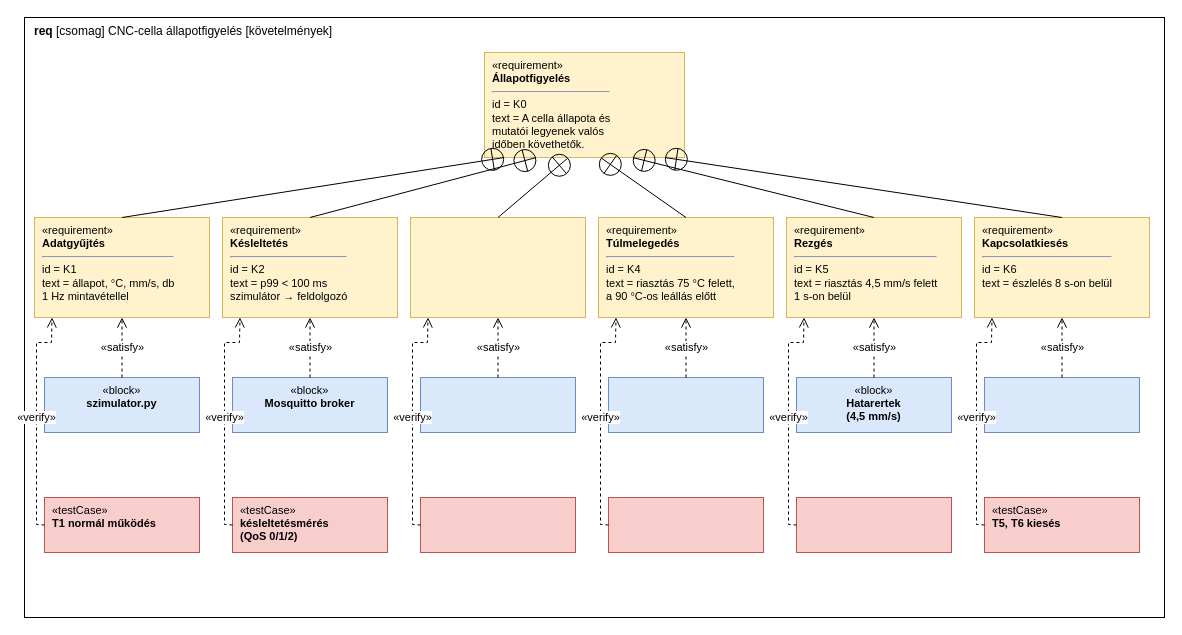
Some shapes in this 1182 by 635 pixel diagram are drawn without their labels. The shapes that lost their labels are listed below. From the top down, each one's box as (x1, y1, x2, y2) in pixels, then its label:
(410, 216, 586, 318): «requirement» OEE számítás id = K3 text = A, P, Q, OEE ±1 %-os eltéréssel
(420, 376, 576, 432): «block» feldolgozo.py (CellaFigyelo)
(608, 376, 764, 432): «block» Hatarertek (75 °C, hiszt. 5 °C)
(984, 376, 1140, 432): «block» watchdog + LWT
(420, 496, 576, 552): «testCase» T2 leállás + egységtesztek
(608, 496, 764, 552): «testCase» T3 túlmelegedés
(796, 496, 952, 552): «testCase» T4 rezgés
